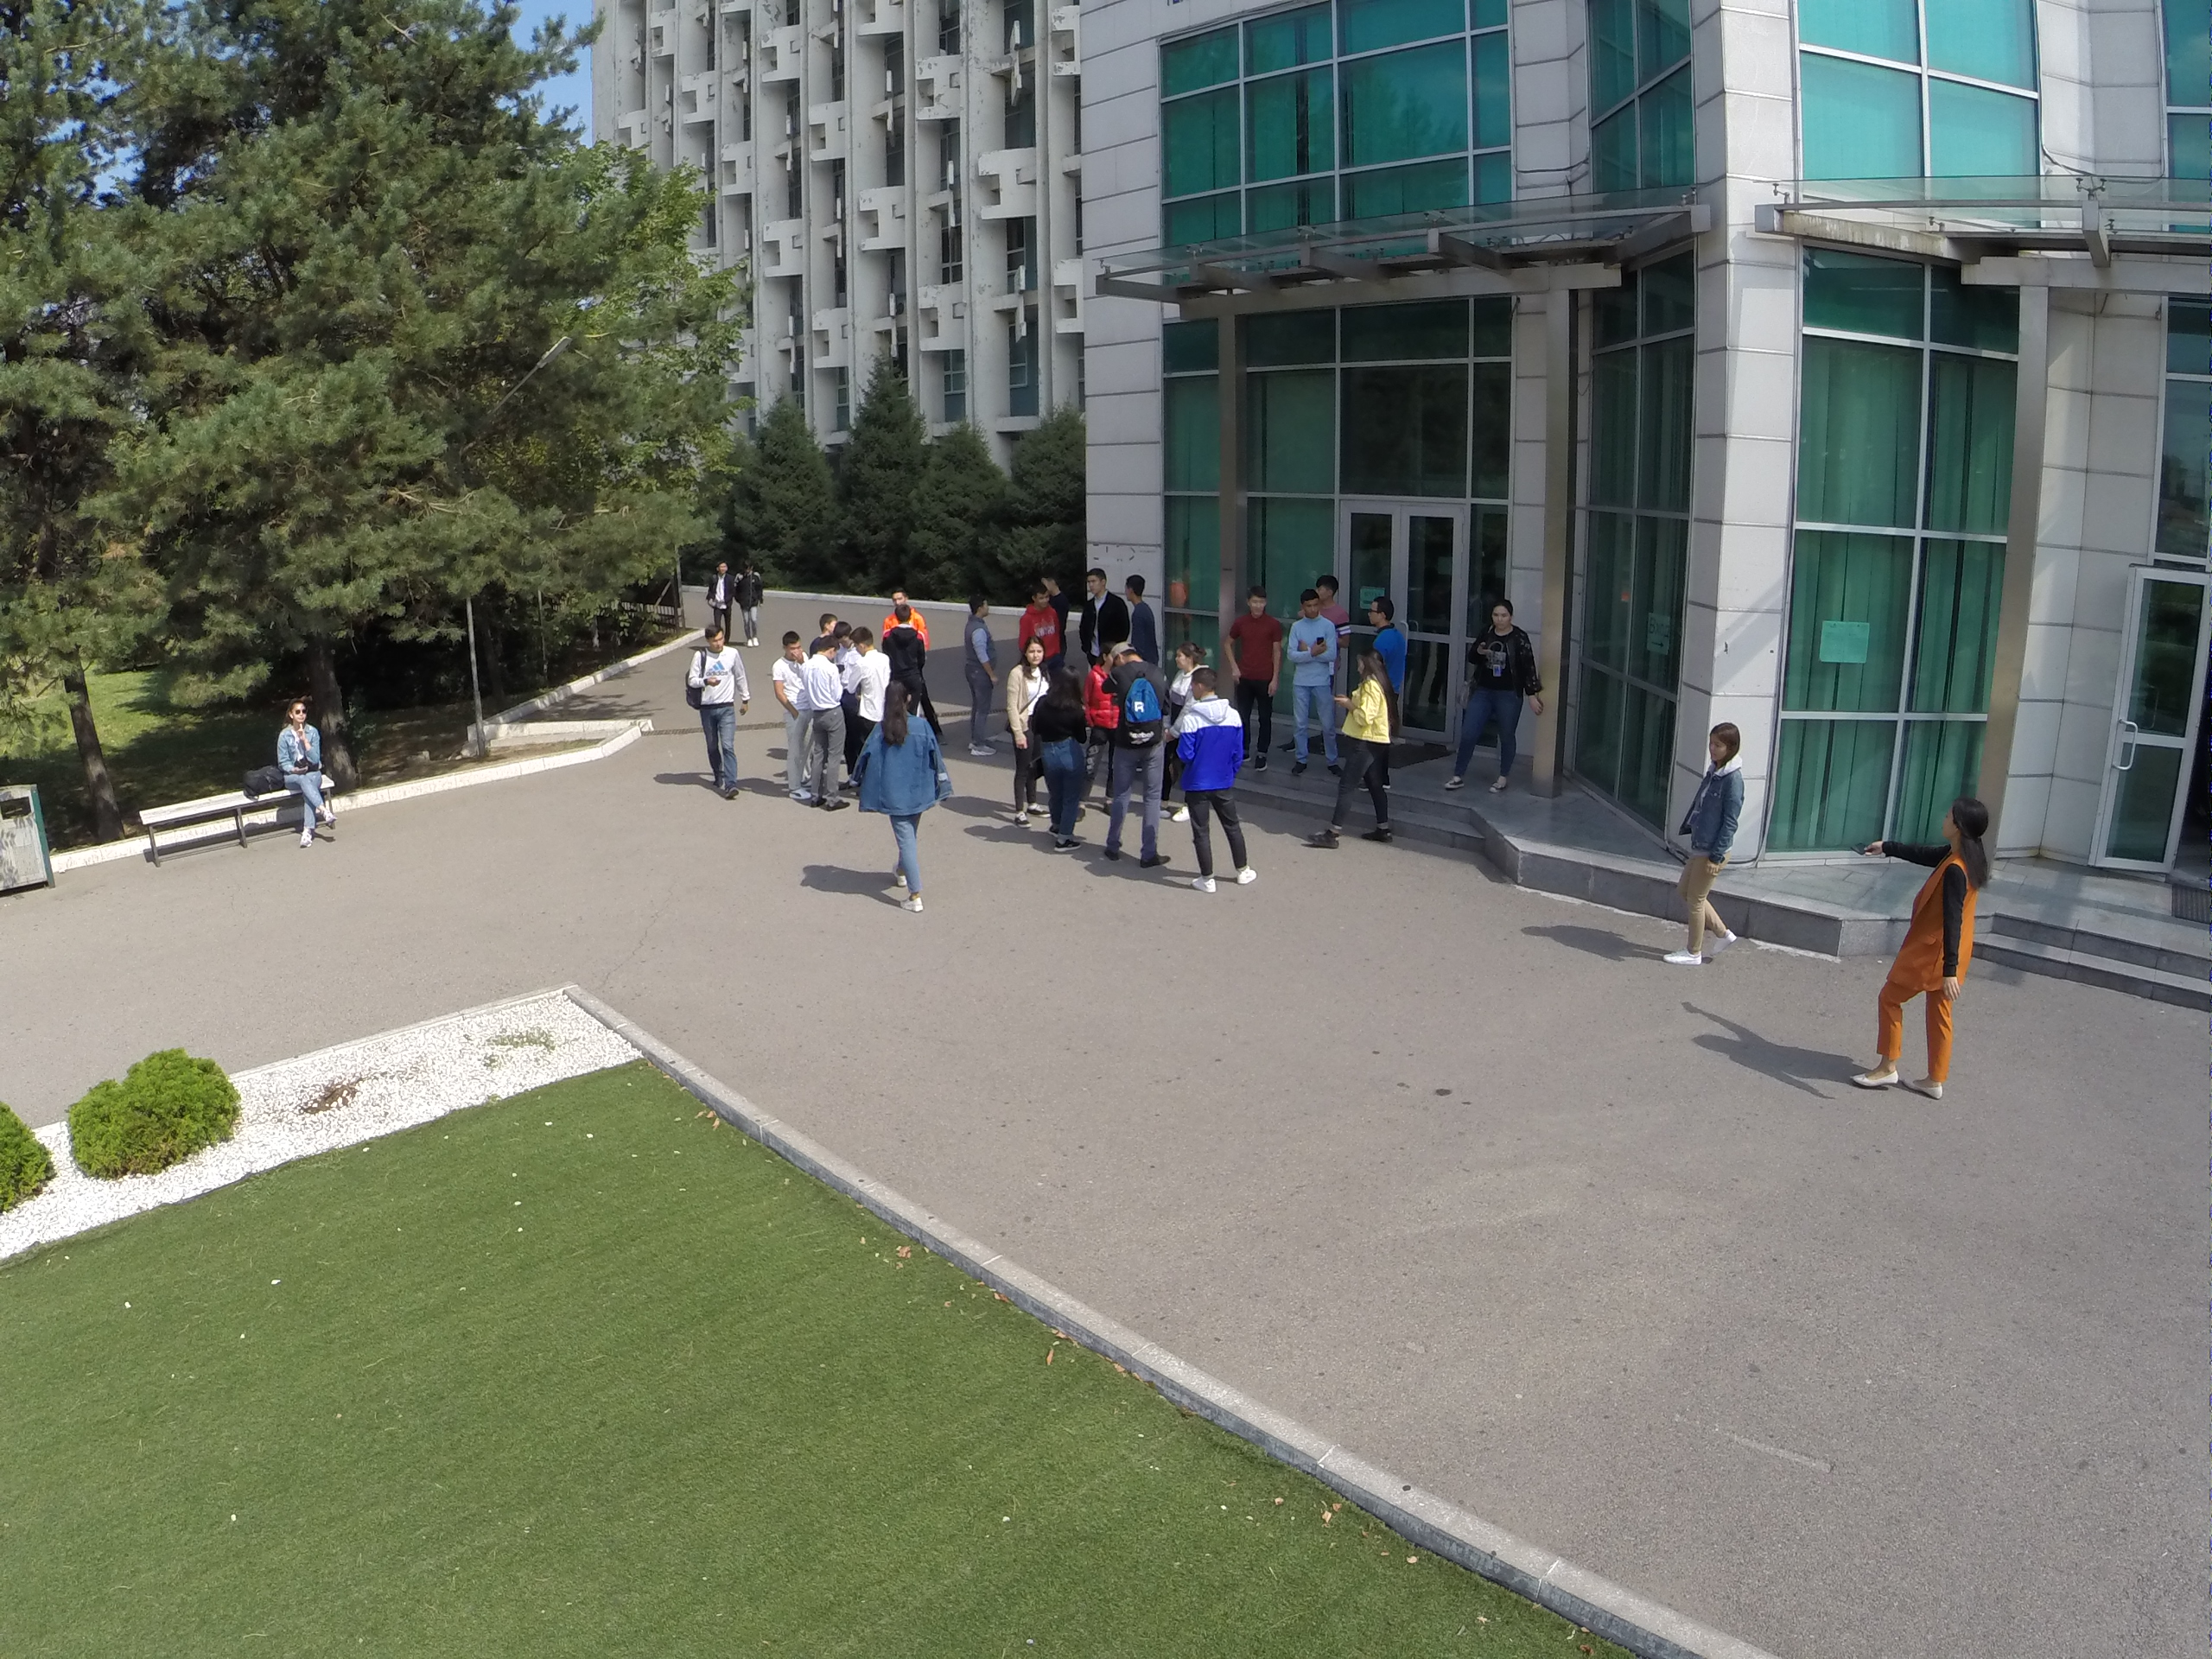person: (1849, 785, 1998, 1098), (1652, 714, 1752, 976), (857, 674, 952, 914), (1445, 594, 1542, 802), (1102, 642, 1178, 874), (1177, 672, 1249, 891), (1331, 650, 1398, 846), (1289, 591, 1349, 783), (690, 626, 750, 805), (276, 696, 342, 852), (1234, 585, 1283, 779), (1040, 660, 1086, 856), (1007, 639, 1050, 829), (772, 632, 814, 804), (961, 594, 1001, 762), (810, 640, 847, 819), (1070, 566, 1122, 655), (847, 619, 887, 734), (1120, 570, 1160, 661), (733, 561, 767, 648), (887, 603, 923, 673), (707, 563, 737, 628), (1026, 588, 1058, 645)
